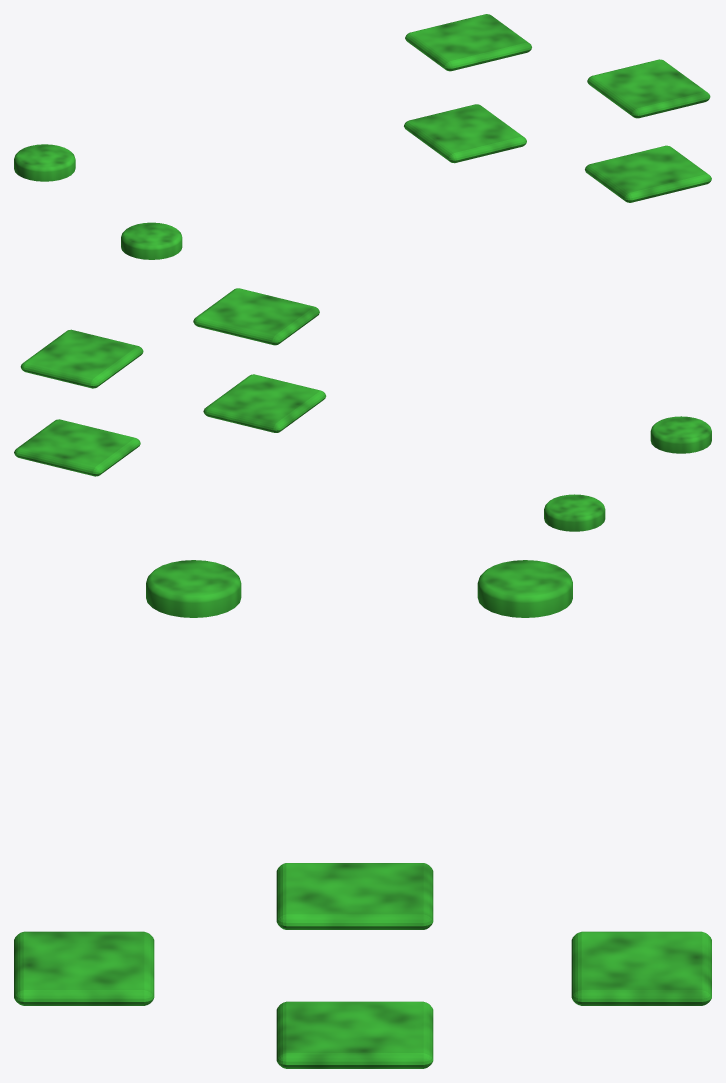
The model's file is kitchen-greenleather.obj.
The picture shows the model from 3 angles, top to bottom: view 1: azimuth 30°, elevation 25°; view 2: azimuth 150°, elevation 25°; view 3: azimuth 270°, elevation 25°; orthographic projection. The views are drawn at different scales.
Parts seen in each view (by area): view 1: chair_Cube.009, chair.001_Cube.009, chair.003_Cube.009, chair.002_Cube.009, stool_Cylinder.013, stool.001_Cylinder.013; view 2: chair_Cube.009, chair.001_Cube.009, chair.002_Cube.009, chair.003_Cube.009, stool.001_Cylinder.013, stool_Cylinder.013; view 3: chair.002_Cube.009, chair.003_Cube.009, chair.001_Cube.009, chair_Cube.009, stool_Cylinder.013, stool.001_Cylinder.013.
Part boxes in pixels (bbox=[...]): chair_Cube.009: bbox=[405, 14, 531, 71]; chair.001_Cube.009: bbox=[585, 145, 711, 202]; chair.003_Cube.009: bbox=[404, 104, 526, 163]; chair.002_Cube.009: bbox=[587, 59, 710, 118]; stool_Cylinder.013: bbox=[14, 144, 75, 181]; stool.001_Cylinder.013: bbox=[121, 222, 182, 259]; chair_Cube.009: bbox=[14, 419, 140, 476]; chair.001_Cube.009: bbox=[193, 288, 319, 345]; chair.002_Cube.009: bbox=[20, 329, 143, 388]; chair.003_Cube.009: bbox=[203, 374, 326, 432]; stool.001_Cylinder.013: bbox=[650, 416, 711, 453]; stool_Cylinder.013: bbox=[544, 494, 605, 531]; chair.002_Cube.009: bbox=[276, 1001, 433, 1068]; chair.003_Cube.009: bbox=[276, 863, 433, 929]; chair.001_Cube.009: bbox=[14, 931, 154, 1005]; chair_Cube.009: bbox=[571, 931, 711, 1005]; stool_Cylinder.013: bbox=[477, 560, 572, 617]; stool.001_Cylinder.013: bbox=[146, 560, 241, 617].
Bounding box in the file's own units: 9.3 × 0.461 × 5.89.
Materials: 1 (1 with a texture image).
